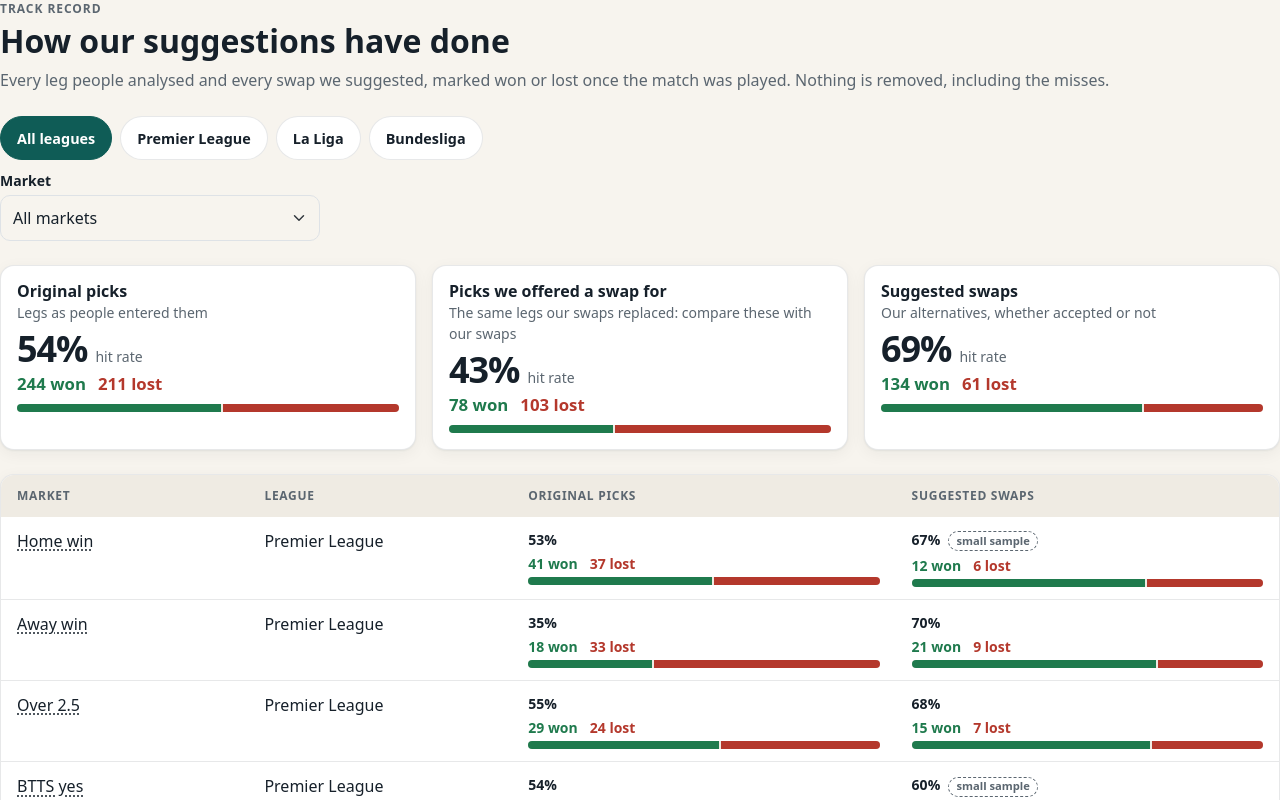
Test: Results page (FR-7.3, RG-3) › filters by league and market, keeping filters in the URL
Click the button "Bundesliga". click: [426, 138]
box: [369,116,483,160]
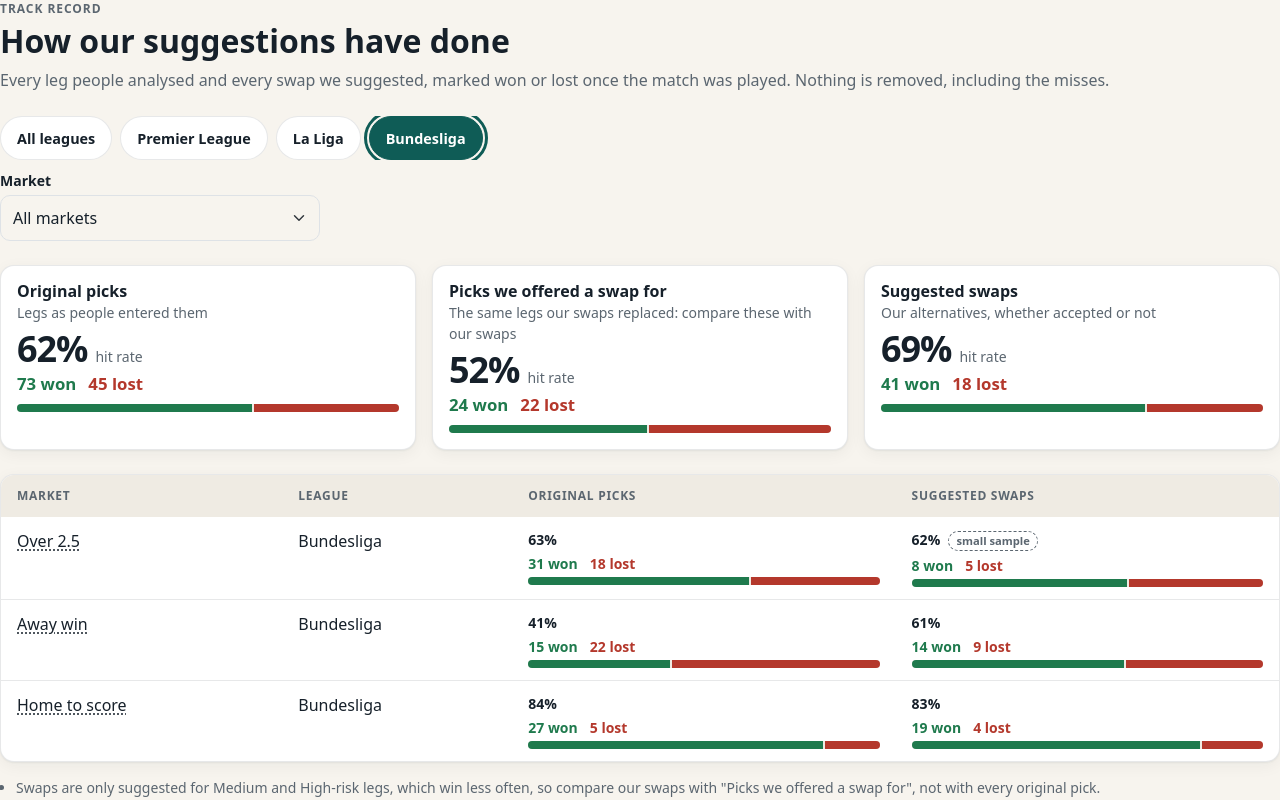
Select "Over 2.5" in the dropdown labelled "Market". click: [160, 218]
box: [0,195,320,241]
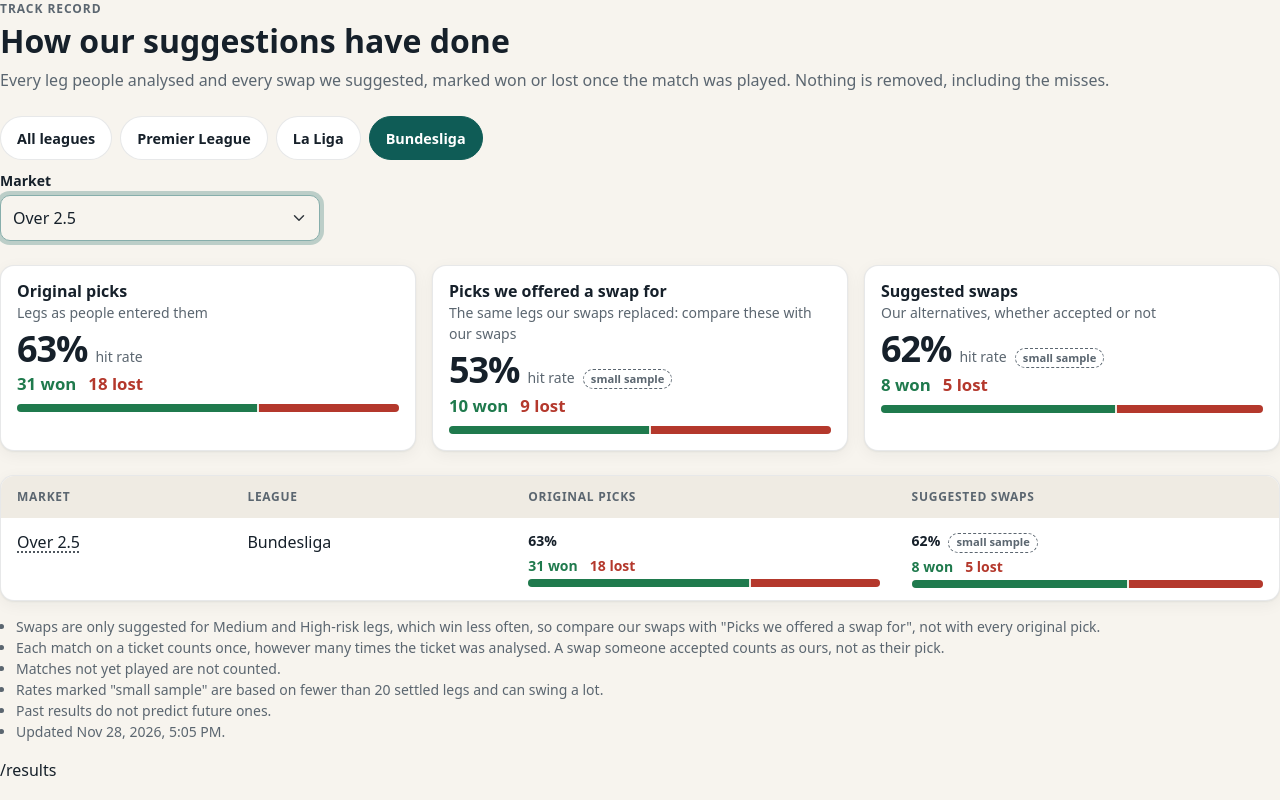
expect the number of rows is 2: met, box [1,476,1279,518]; [1,518,1279,600]
